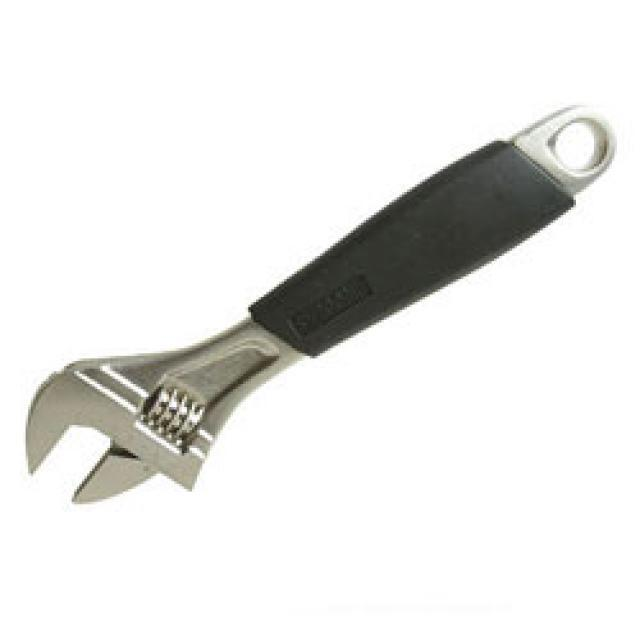wrench: (20, 95, 626, 515)
